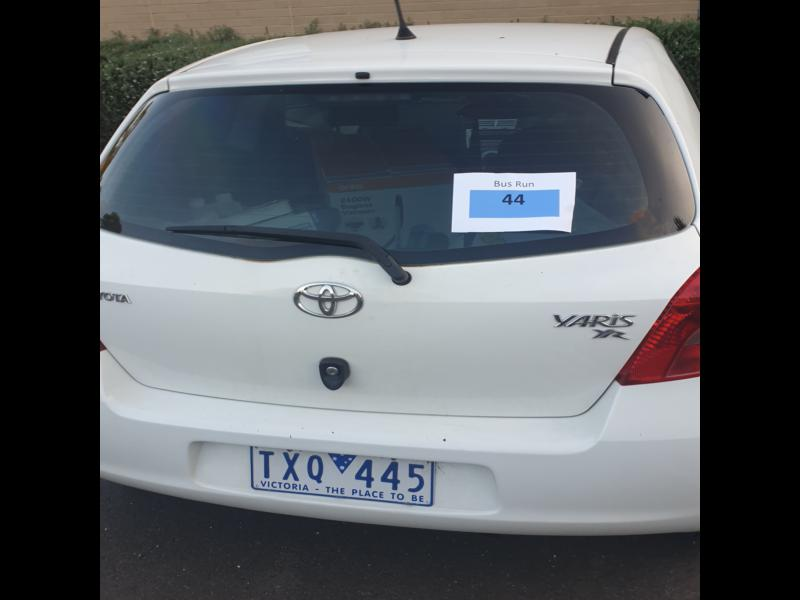BusRun: (468, 188, 561, 218)
PlateNo: (252, 444, 435, 507)
